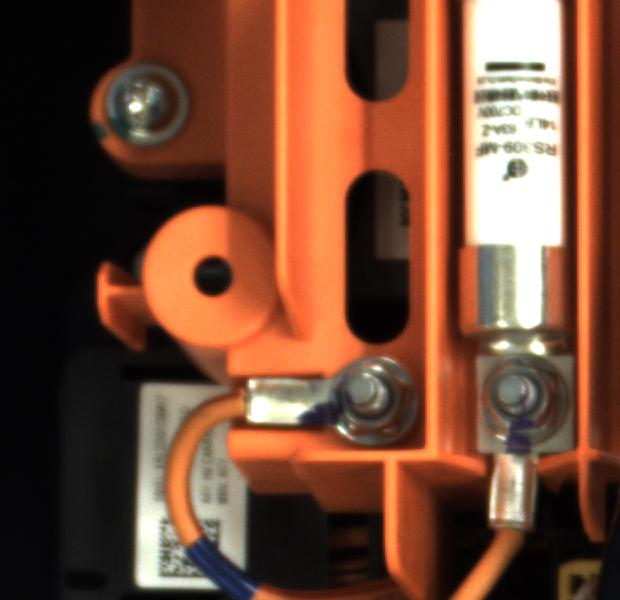screw_m: (85, 52, 211, 163)
screw_s: (472, 351, 577, 449), (321, 347, 426, 443)
